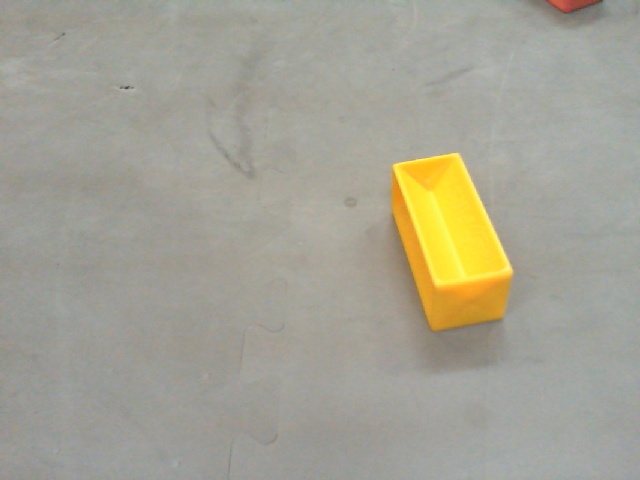YellowSample: (388, 146, 519, 336)
